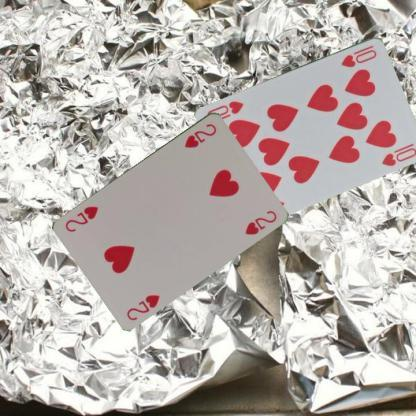10h: (338, 42, 378, 69)
2h: (124, 291, 161, 322), (181, 120, 218, 149)
